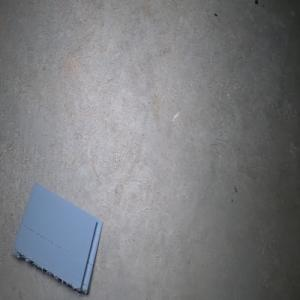PlasticPart: (11, 182, 103, 295)
